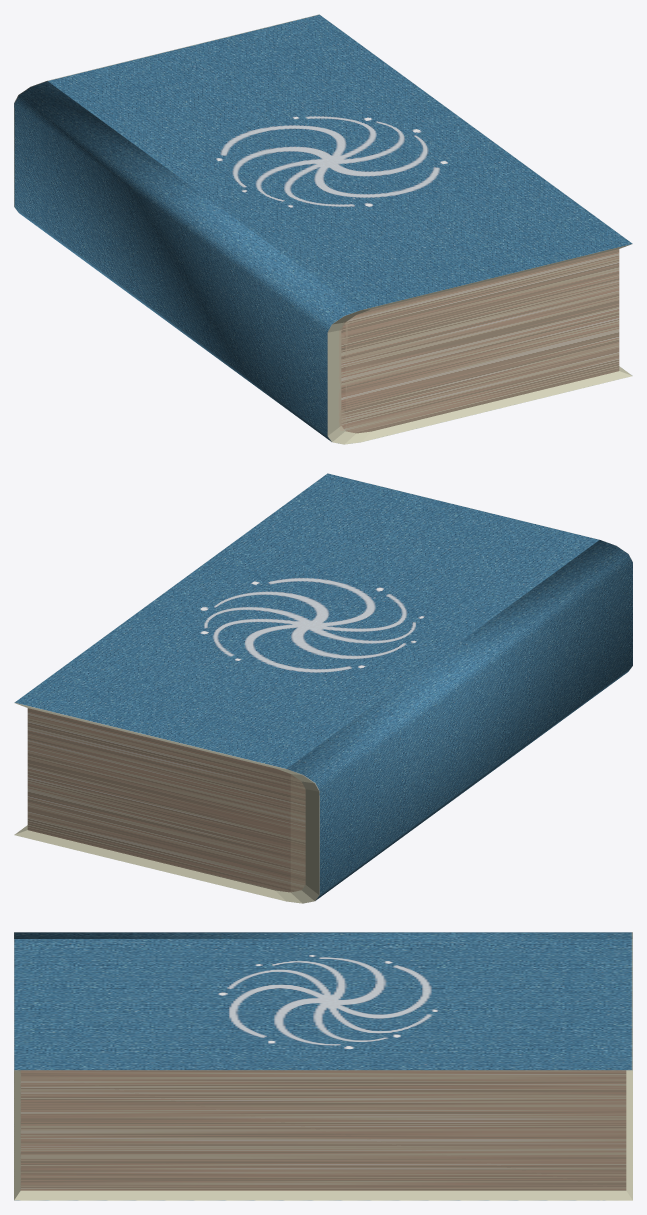
The model's file is Book.001.fbx.
The picture shows the model from 3 angles, top to bottom: view 1: azimuth 30°, elevation 25°; view 2: azimuth 150°, elevation 25°; view 3: azimuth 270°, elevation 25°; orthographic projection.
Parts seen in each view (by area): view 1: Book.001; view 2: Book.001; view 3: Book.001.
Part boxes in pixels (left/top/right/bottom): Book.001: left=14, top=14, right=632, bottom=444; Book.001: left=14, top=473, right=632, bottom=903; Book.001: left=14, top=932, right=632, bottom=1200.
Size of the model in its own units: 200 by 82.71 by 356.
Materials: 1 (1 with a texture image).
